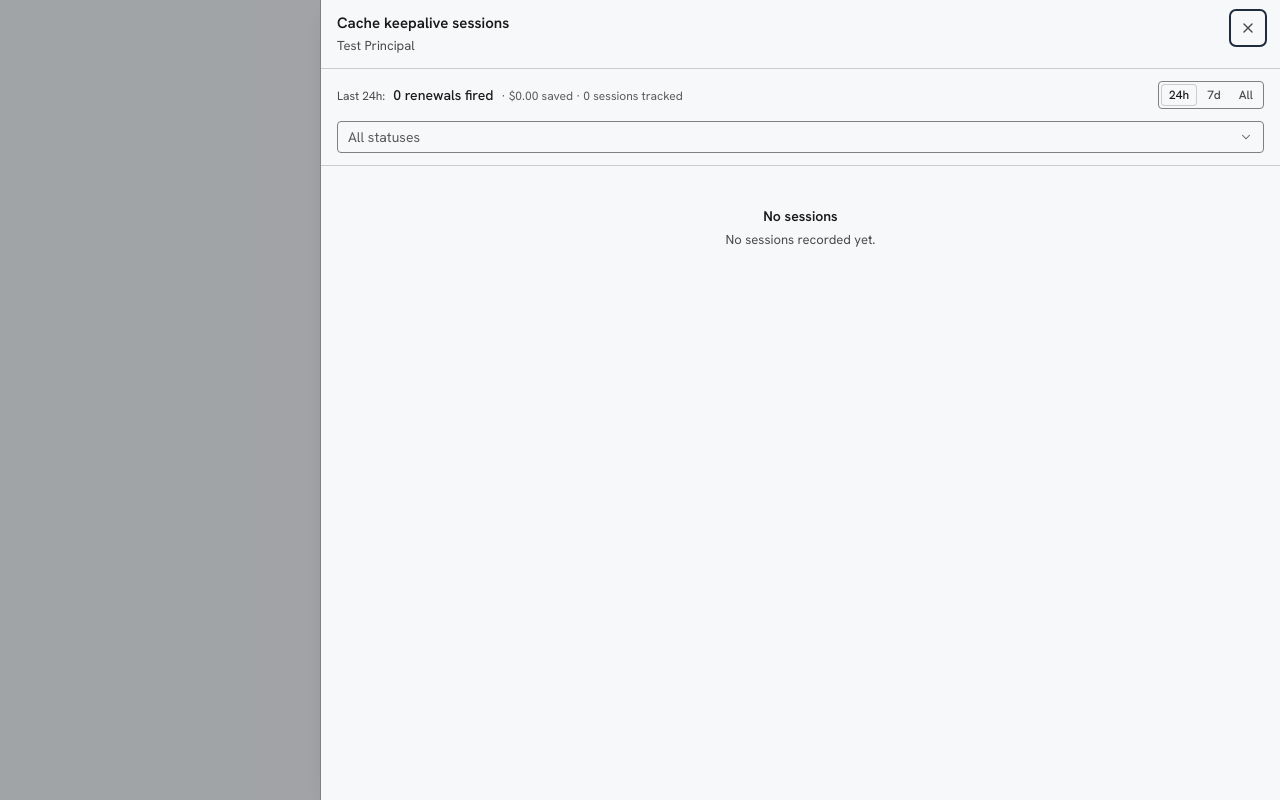
Scenario: CacheKeepaliveSessionsDrawer › renders no matching sessions empty state
Click the dropdown named "Session status" at (384, 137), box [337,121,1264,153]
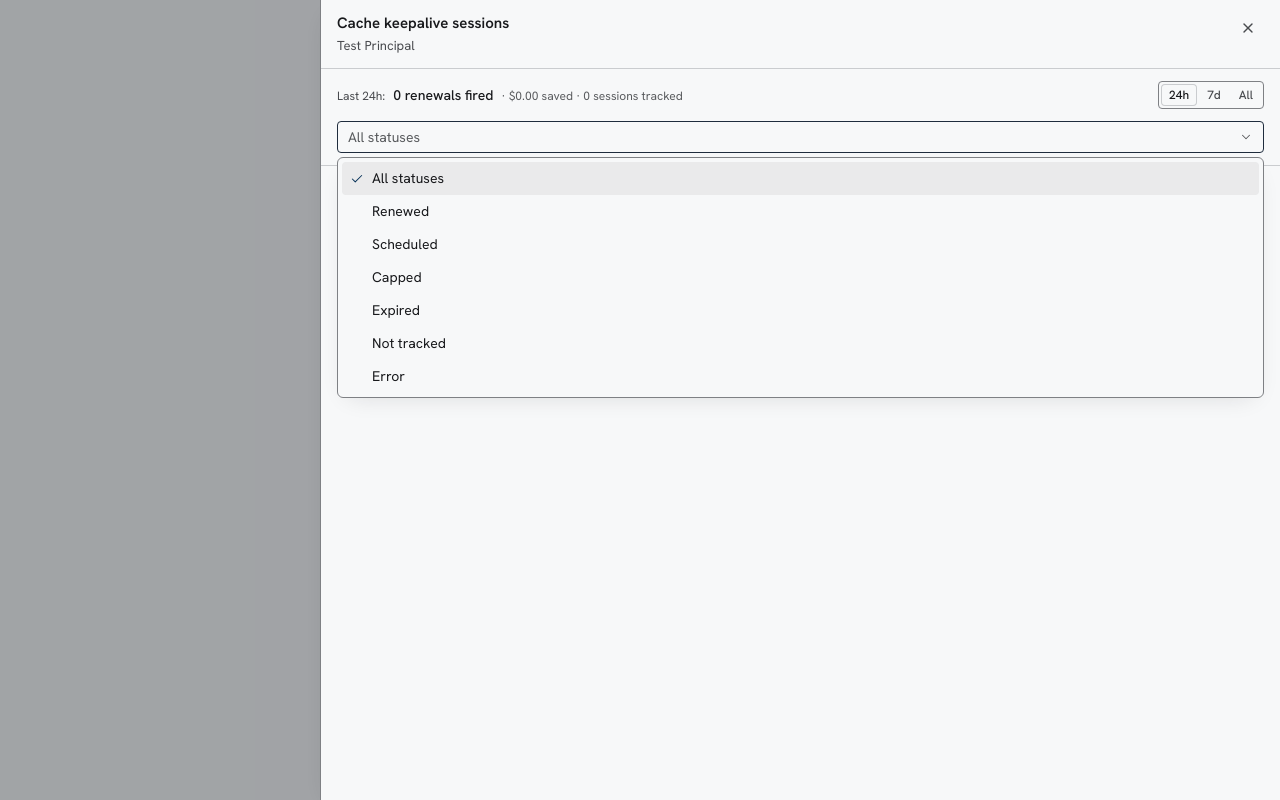
Click the option "Renewed" at (401, 211), box [372,202,429,220]
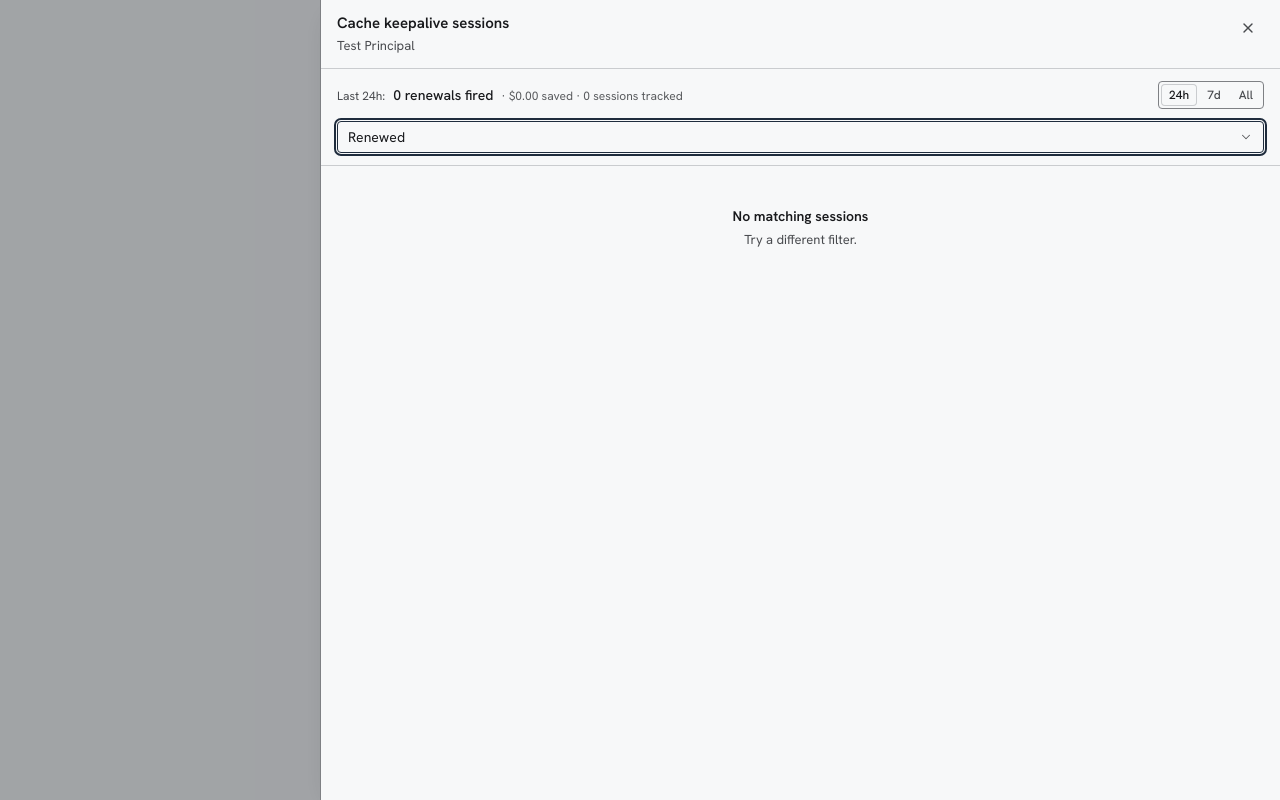
Expected: the heading "No matching sessions" is shown, [732,206,868,226]
